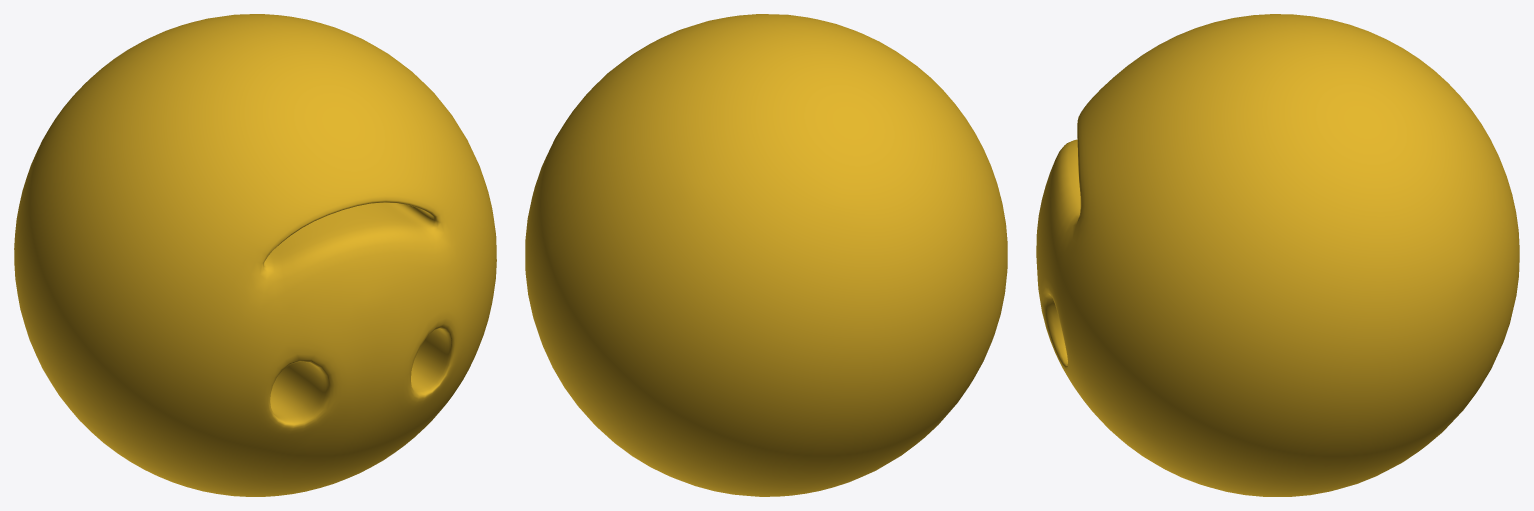
Rendered from inverted.glb.
3 views of the same model, side by side, from view 1: azimuth 30°, elevation 25°; view 2: azimuth 150°, elevation 25°; view 3: azimuth 270°, elevation 25° (orthographic).
Parts seen in each view (by area): view 1: Group8959; view 2: Group8959; view 3: Group8959.
Boxes of the visible parts, box(x1,y1,x2,y2) form: Group8959: box(14, 14, 496, 496); Group8959: box(525, 14, 1007, 496); Group8959: box(1036, 14, 1519, 496).
Size of the model in its own units: 0.5641 by 0.5651 by 0.5649.
